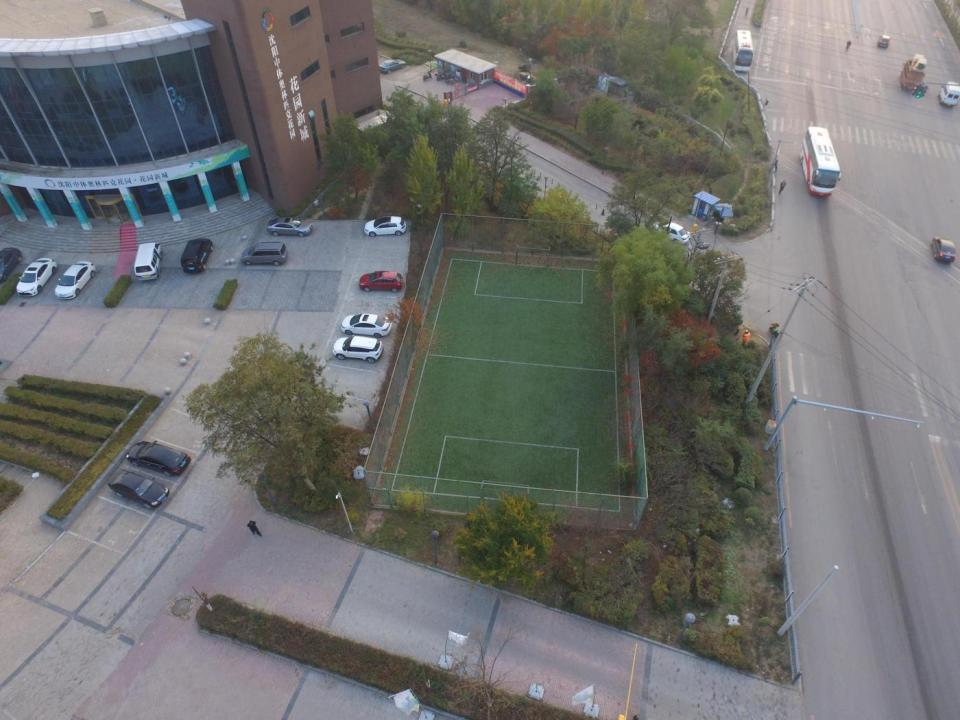bus: (800, 126, 842, 196), (732, 30, 754, 72)
car: (107, 469, 169, 508), (126, 440, 191, 476), (16, 258, 56, 296), (55, 261, 95, 299), (333, 334, 383, 364), (341, 313, 391, 337), (359, 271, 404, 293), (266, 216, 313, 236), (364, 216, 407, 237), (0, 247, 21, 281), (378, 60, 405, 72)
truck: (900, 54, 926, 91)
van: (180, 238, 214, 273), (134, 242, 163, 281), (242, 242, 288, 266), (878, 34, 890, 48)
